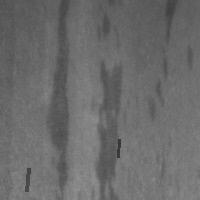inclusion: (47, 1, 73, 199), (93, 55, 124, 200), (147, 53, 169, 124), (161, 1, 179, 44), (95, 10, 112, 50), (182, 43, 197, 74), (24, 166, 30, 193), (116, 137, 121, 159)
